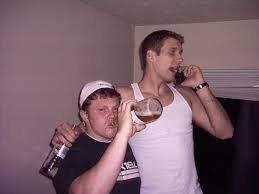Drunk: (156, 37, 183, 82), (91, 95, 119, 138)
